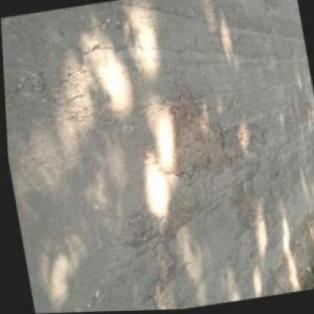Hueco: (136, 79, 235, 184)
